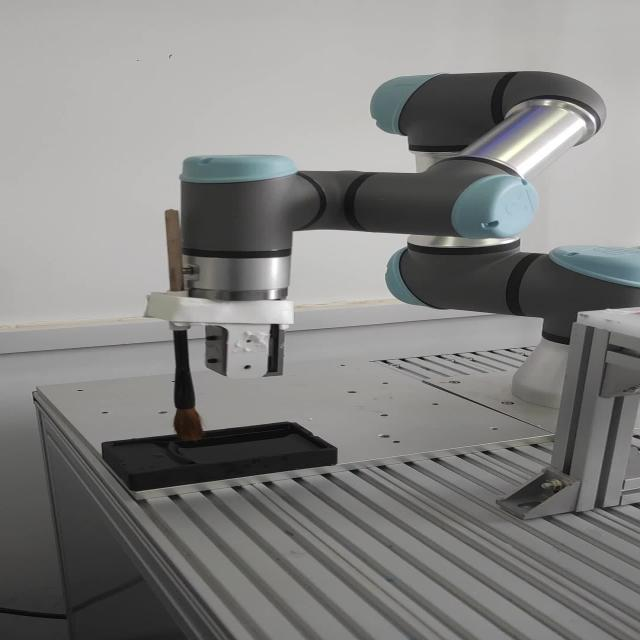head: (164, 410, 209, 457)
inkstone: (101, 419, 345, 492)
writing-brush: (150, 208, 219, 458)
